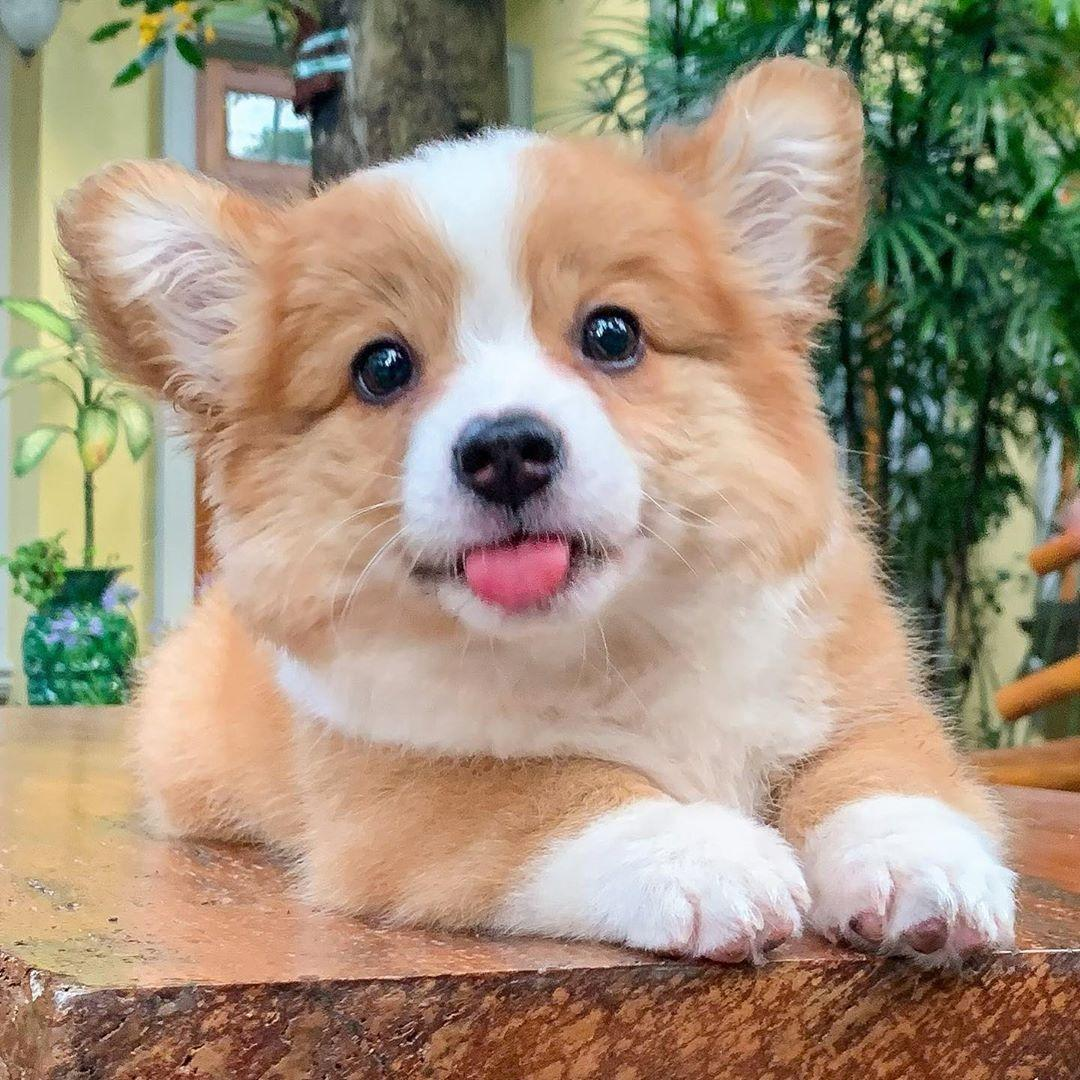puppy-dog: (56, 49, 1023, 970)
